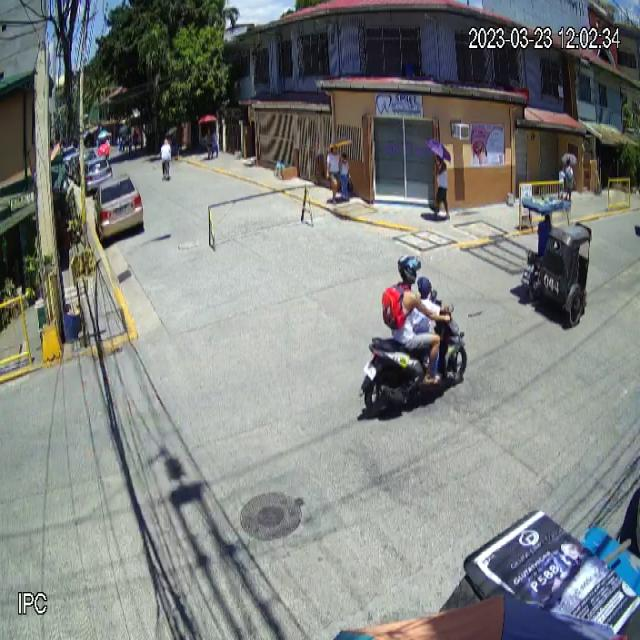Motorcycle: (355, 296, 470, 419)
Tricycle: (519, 194, 594, 328)
